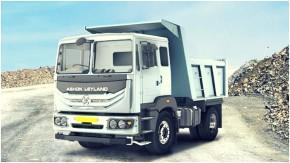truck: (48, 14, 234, 163)
